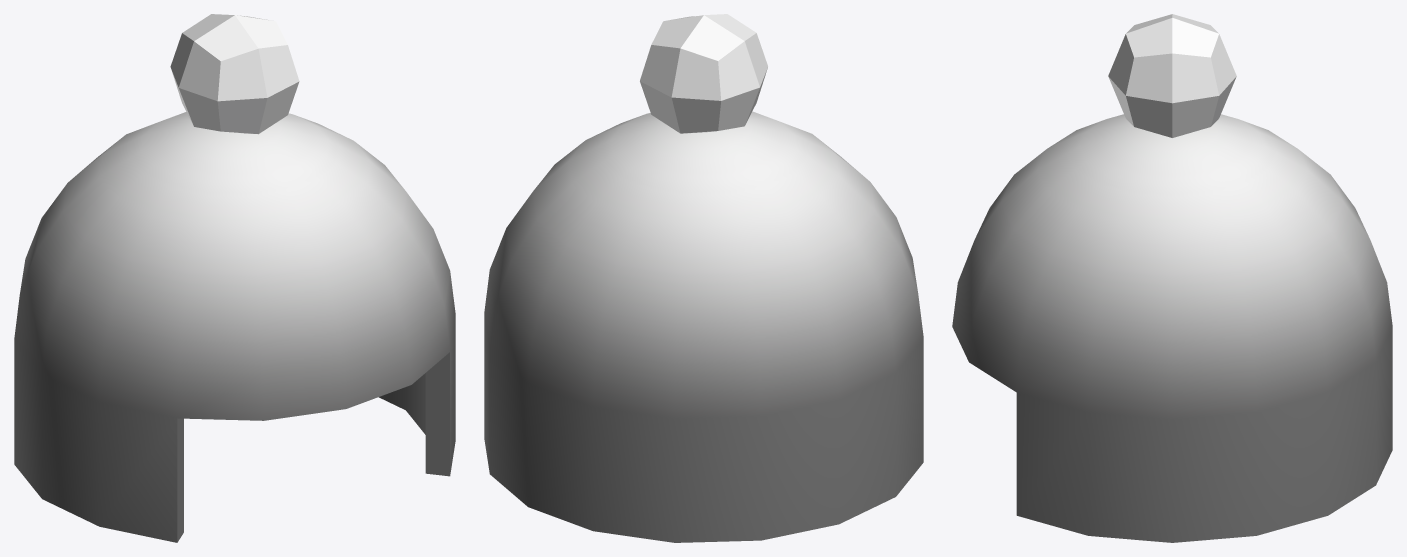
The model's file is Capsule_Head_Props_Helmet_Medieval_01.fbx.
The picture shows the model from 3 angles, left to right: view 1: azimuth 30°, elevation 25°; view 2: azimuth 150°, elevation 25°; view 3: azimuth 270°, elevation 25°; orthographic projection.
Parts seen in each view (by area): view 1: Capsule_Head_Props_Helmet_Medieval_01; view 2: Capsule_Head_Props_Helmet_Medieval_01; view 3: Capsule_Head_Props_Helmet_Medieval_01.
Boxes of the visible parts, x1,y1,x2,y2 form: Capsule_Head_Props_Helmet_Medieval_01: (14,14,455,542); Capsule_Head_Props_Helmet_Medieval_01: (484,14,923,542); Capsule_Head_Props_Helmet_Medieval_01: (952,14,1392,542).
Size of the model in its own units: 110 by 119 by 110.
